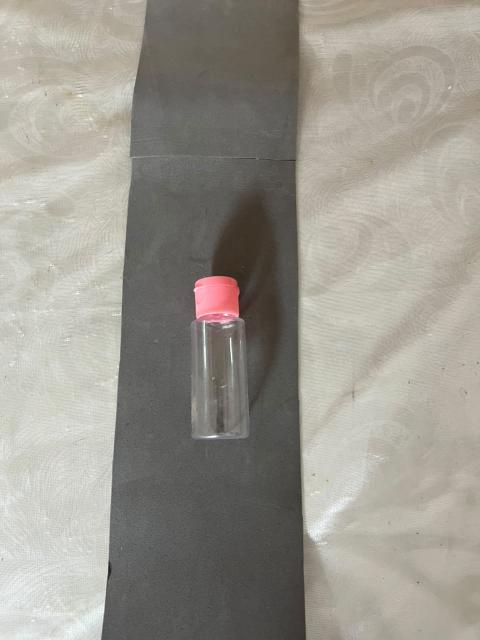PET: (157, 243, 275, 478)
